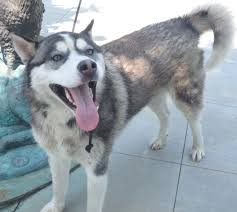Siberian Husky: (8, 9, 228, 200)
